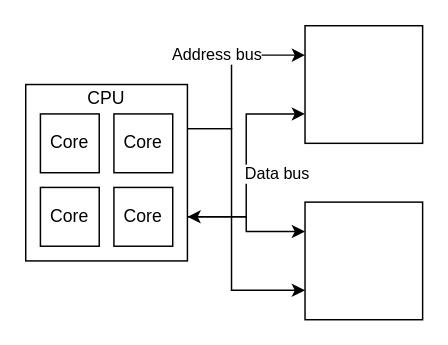
Some shapes in this 448 by 345 pixel diagram are drawn without their labels. The box of each missing label's shape, as (x1, y1, x2, y2) in pixels:
Data memory: (304, 24, 423, 143)
Program memory: (304, 201, 423, 320)
